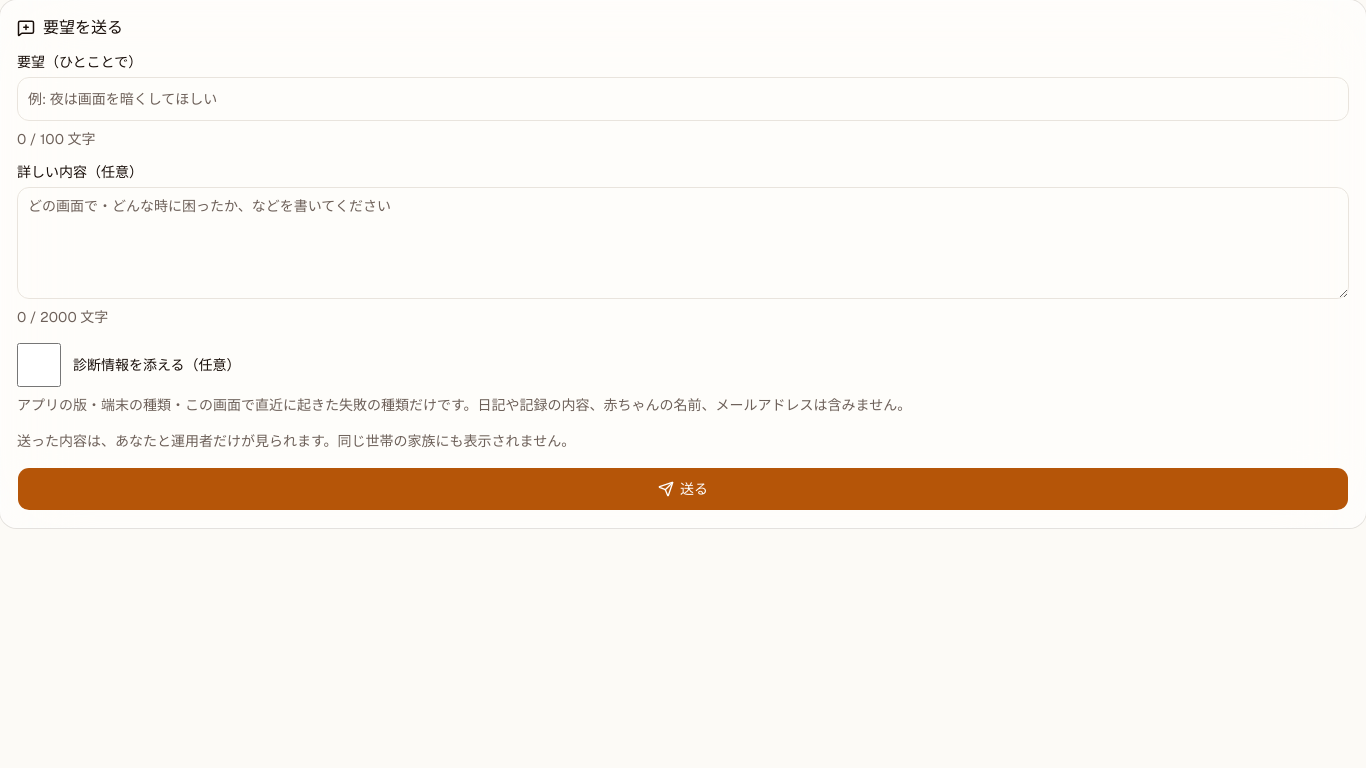
Scenario: FeedbackForm の診断情報 › 診断を外すと次の送信は本文だけ（下書きからも外れる）
Type "x" into the field labelled "要望（ひとことで）".
click(683, 99); type("x")  # box [17, 77, 1349, 121]
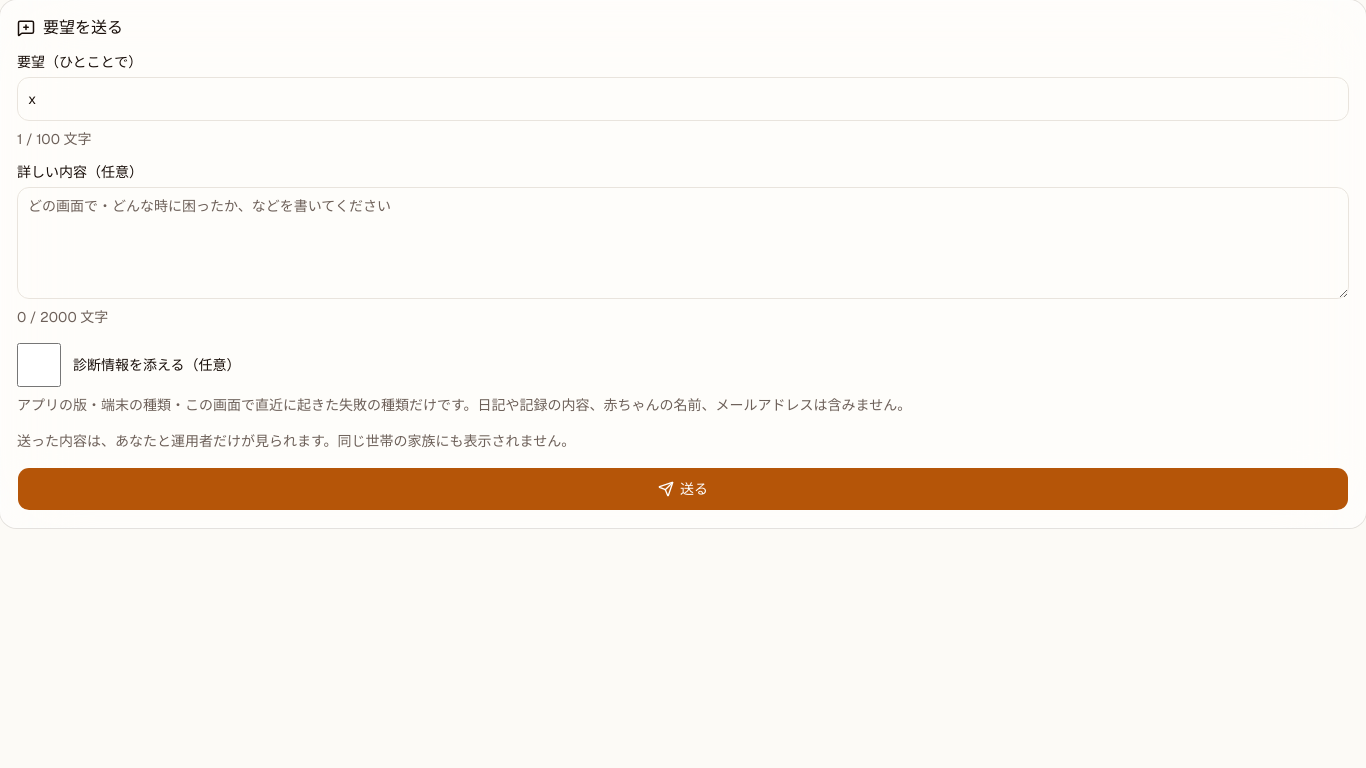
Click the checkbox labelled "診断情報を添える（任意）".
click(39, 365)  # box [17, 343, 61, 387]
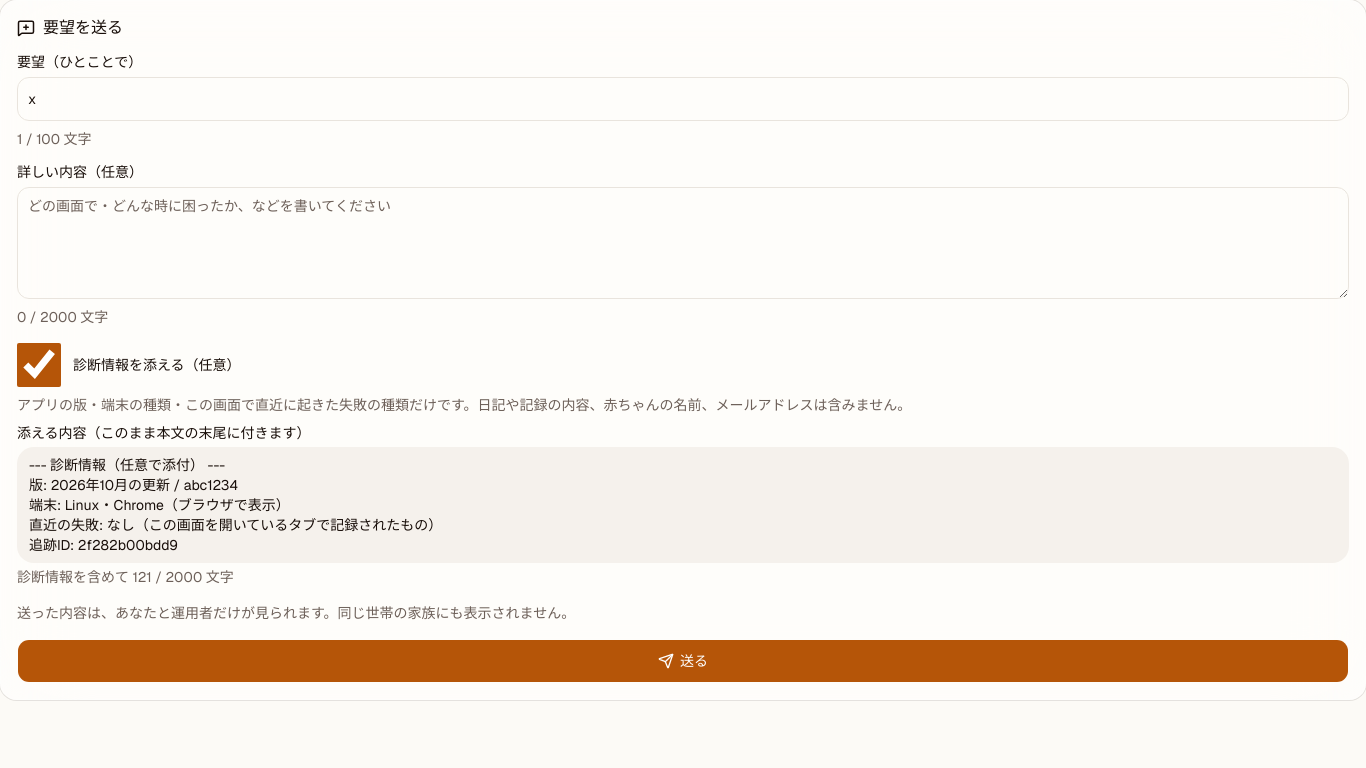
Click the checkbox labelled "診断情報を添える（任意）".
click(39, 365)  # box [17, 343, 61, 387]
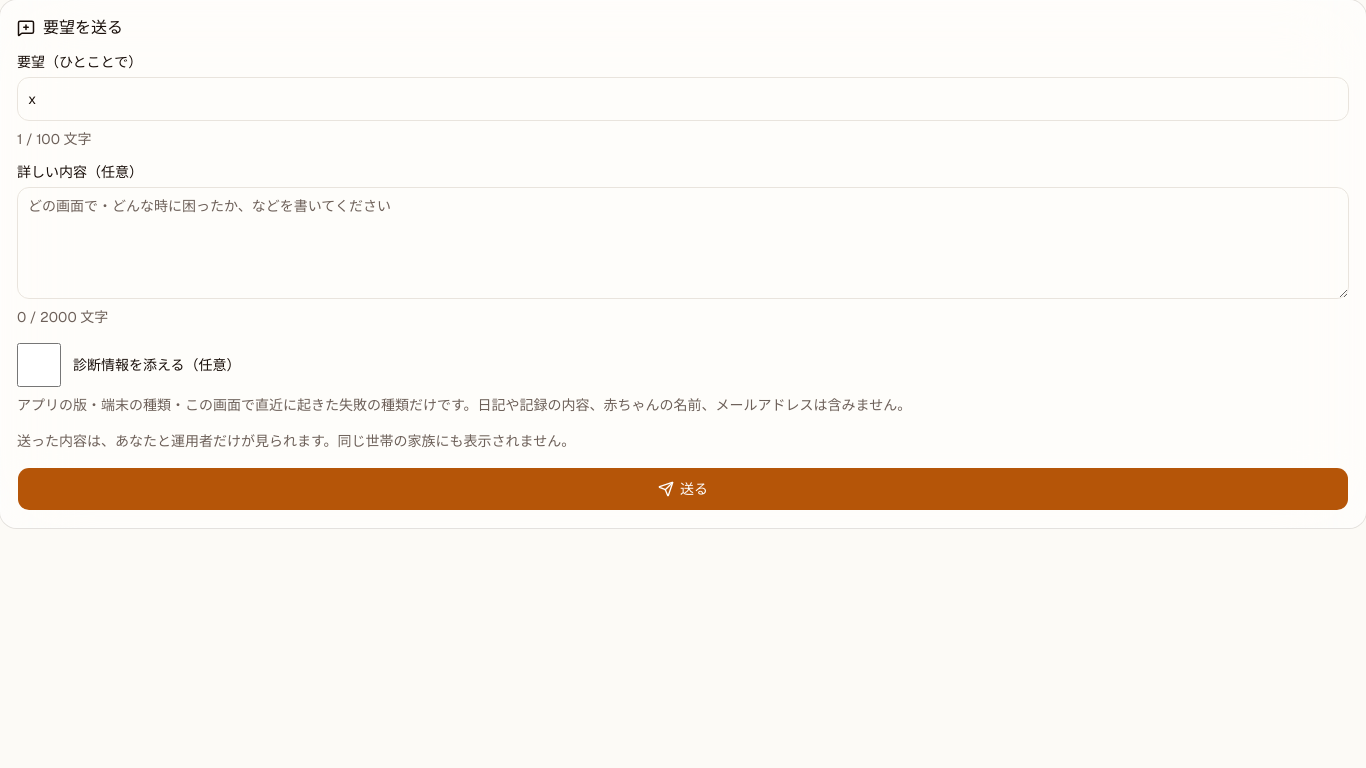
Result: the text with test id "feedback-diagnostic-preview" is gone
